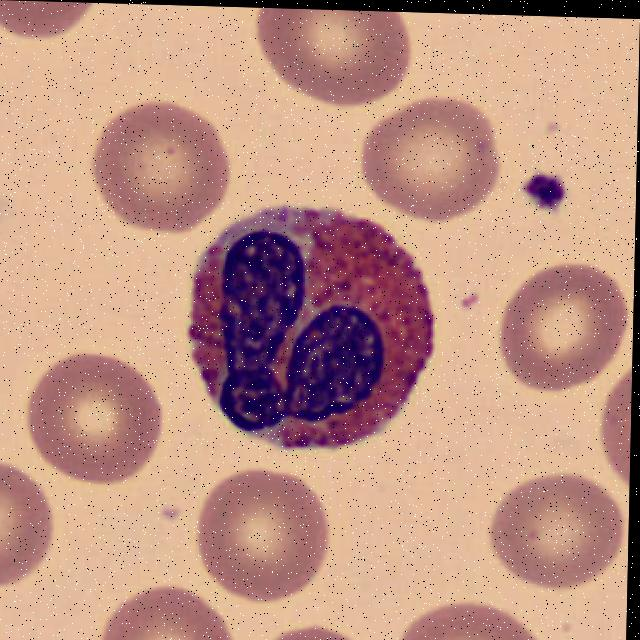eosinophil: (186, 187, 448, 471)
rbc: (87, 97, 239, 243), (185, 464, 337, 606), (354, 94, 509, 226), (21, 347, 166, 486), (483, 465, 627, 593), (498, 259, 631, 397), (251, 8, 411, 110), (88, 572, 246, 640), (0, 450, 70, 590), (389, 590, 550, 640), (598, 358, 632, 505), (0, 0, 116, 41), (255, 617, 375, 640)
